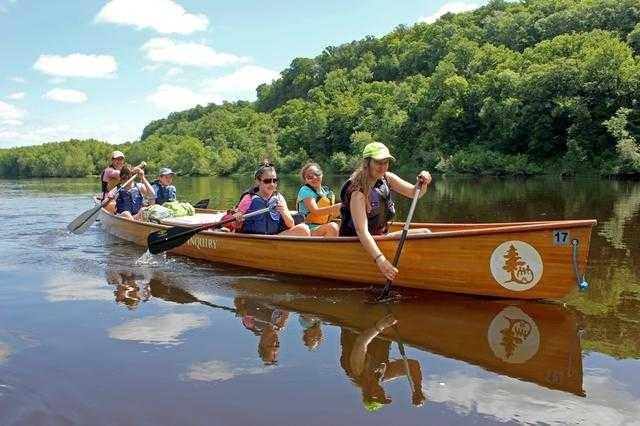kayak: (101, 211, 588, 298)
